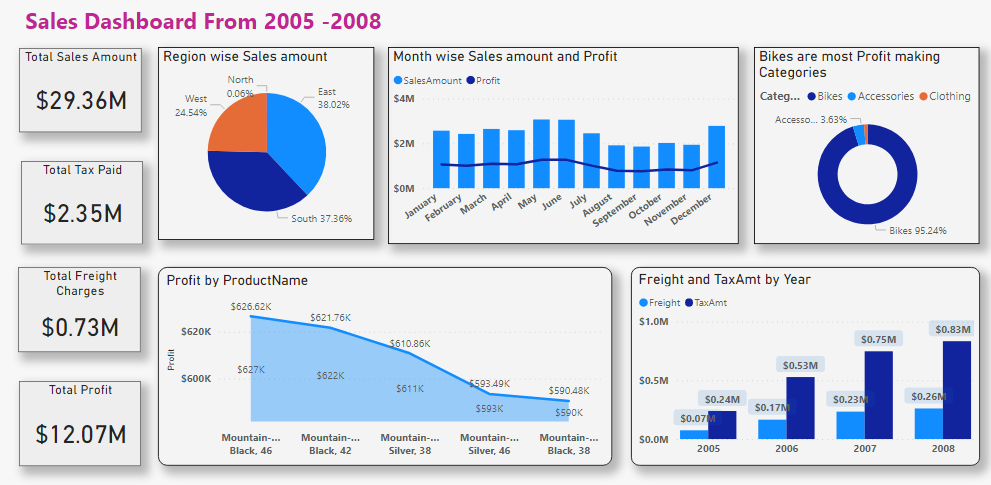

The page's visual inventory and layout, read from the dashboard file:
{"tool":"powerbi","page":{"name":"Page 1","canvas":[1200,600],"ordinal":0},"visuals":[{"type":"card","title":"Total Sales Amount","fields":{"Values":["Sum(Sales.SalesAmount)"]},"box":[34,66.7,146.7,100.7],"z":0},{"type":"card","title":"Total Tax Paid","fields":{"Values":["Sum(Sales.TaxAmt)"]},"box":[35.6,202.2,145.6,100.3],"z":2000},{"type":"card","title":"Total Freight Charges","fields":{"Values":["Sum(Sales.Freight)"]},"box":[32.3,329.9,147.2,101.9],"z":4000},{"type":"card","title":"Total Profit","fields":{"Values":["Sum(Sales.Profit)"]},"box":[34,465.8,145.6,101.9],"z":5000},{"type":"donutChart","title":"Bikes are most  Profit making Categories","fields":{"Category":["Products.CategoryName"],"Y":["Sum(Sales.Profit)"]},"box":[913.7,66.3,270.1,236.1],"z":6000},{"type":"lineClusteredColumnComboChart","title":"Month wise Sales amount and Profit","fields":{"Y":["Sum(Sales.SalesAmount)"],"Y2":["Sum(Sales.Profit)"],"Category":["Sales.DueDate.Variation.Date Hierarchy.Month"]},"box":[475.5,66.3,420.5,236.1],"z":7000},{"type":"pieChart","title":"Region wise Sales amount","fields":{"Category":["Customer.Region"],"Y":["Sum(Sales.SalesAmount)"]},"box":[200.5,66.3,258.8,231.3],"z":7001},{"type":"stackedAreaChart","fields":{"Category":["Products.ProductName"],"Y":["Sum(Sales.Profit)"]},"box":[200,329.3,543.7,238.3],"z":7002},{"type":"clusteredColumnChart","fields":{"Category":["Sales.DueDate.Variation.Date Hierarchy.Year"],"Y":["Sum(Sales.Freight)","Sum(Sales.TaxAmt)"]},"box":[766.5,329.3,418,238.3],"z":7003},{"type":"textbox","box":[35.9,10.8,471.9,45.5],"z":7004}]}

Visuals, with their boxes in screenshot pixels (x1, y1, x2, y2), scaled from the page's 1200x600 canvas onto the 991x485 screenshot:
"Total Sales Amount" card: x1=28 y1=54 x2=149 y2=135
"Total Tax Paid" card: x1=29 y1=163 x2=150 y2=245
"Total Freight Charges" card: x1=27 y1=267 x2=148 y2=349
"Total Profit" card: x1=28 y1=377 x2=148 y2=459
"Bikes are most  Profit making Categories" donutChart: x1=755 y1=54 x2=978 y2=244
"Month wise Sales amount and Profit" lineClusteredColumnComboChart: x1=393 y1=54 x2=740 y2=244
"Region wise Sales amount" pieChart: x1=166 y1=54 x2=379 y2=241
stackedAreaChart - Products.ProductName x Sum(Sales.Profit): x1=165 y1=266 x2=614 y2=459
clusteredColumnChart - Sales.DueDate.Variation.Date Hierarchy.Year x Sum(Sales.Freight): x1=633 y1=266 x2=978 y2=459
textbox: x1=30 y1=9 x2=419 y2=46
